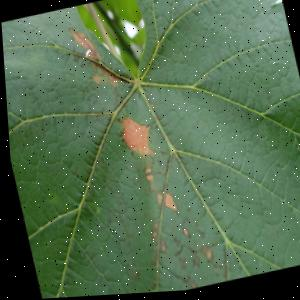Folha: (0, 0, 300, 300)
Fungo: (67, 15, 135, 96), (115, 111, 155, 165), (67, 23, 98, 63), (158, 192, 175, 215), (141, 167, 152, 184), (178, 227, 187, 241), (154, 240, 163, 254), (152, 193, 161, 206), (83, 47, 90, 58)
